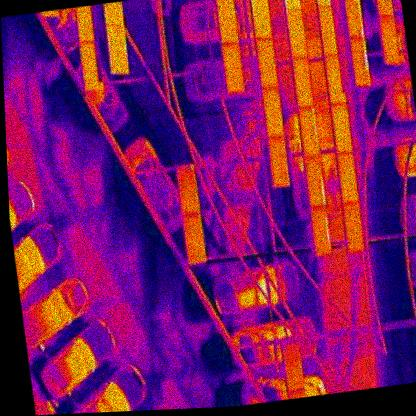Diode: (309, 203, 333, 256), (349, 36, 372, 87), (305, 155, 327, 208), (298, 107, 321, 157), (250, 0, 273, 41), (343, 0, 364, 38)
Hotspot: (285, 5, 309, 58), (176, 164, 200, 215)
Normal: (267, 136, 291, 189), (262, 87, 286, 139), (222, 42, 246, 94), (105, 22, 129, 74), (342, 202, 365, 254), (183, 213, 206, 265), (256, 37, 279, 89), (283, 343, 306, 393), (331, 103, 353, 155), (292, 57, 314, 109), (337, 153, 359, 204), (379, 14, 401, 64), (79, 40, 100, 91), (324, 54, 345, 104), (216, 0, 238, 45), (317, 5, 337, 54), (374, 0, 395, 18)
